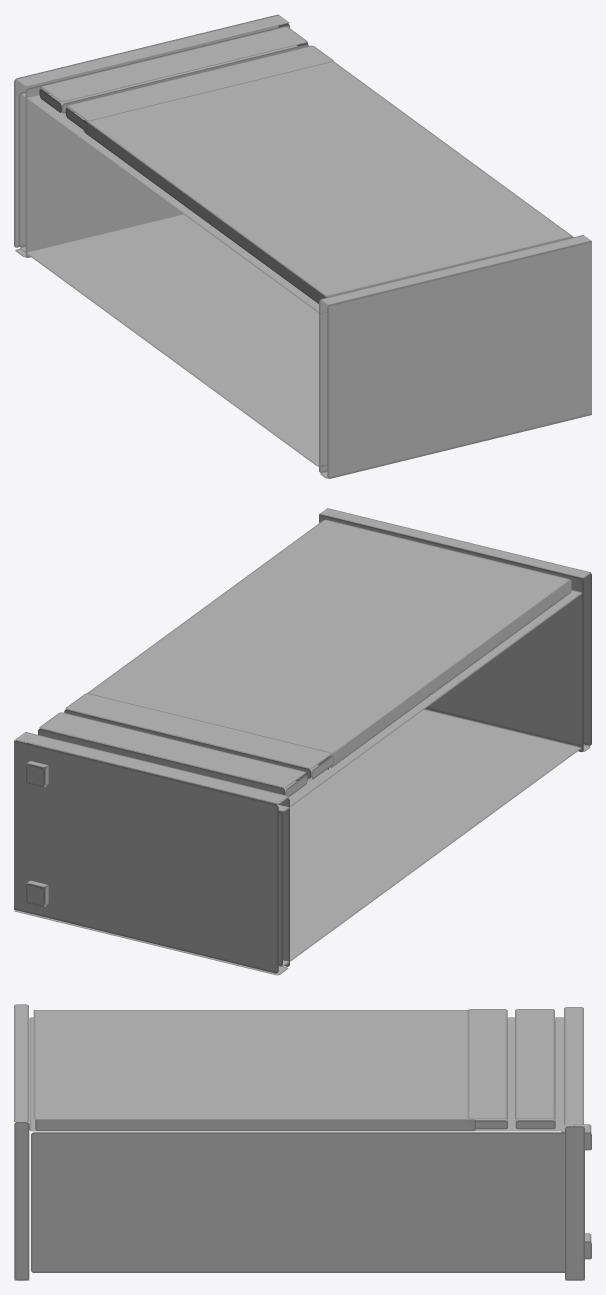
The model's file is pz_wardrobe_storage_01_oak_1_0.obj.
3 views of the same model, one above another, from view 1: azimuth 30°, elevation 25°; view 2: azimuth 150°, elevation 25°; view 3: azimuth 270°, elevation 25° (orthographic). The views are drawn at different scales.
Size of the model in its own units: 0.995 by 0.625 by 2.07.
Materials: 1 (1 with a texture image).
